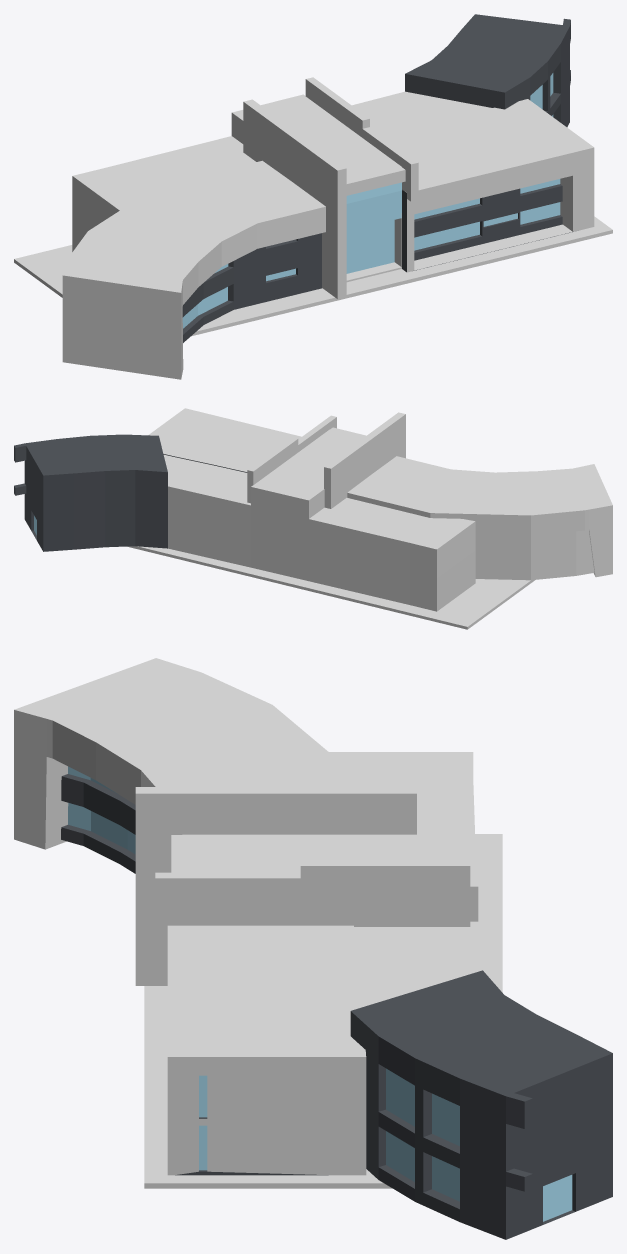
File: CHA.fbx
The picture shows the model from 3 angles, top to bottom: view 1: azimuth 30°, elevation 25°; view 2: azimuth 150°, elevation 25°; view 3: azimuth 270°, elevation 25°; orthographic projection. The views are drawn at different scales.
Visible parts, largest first — view 1: CHA.003, CHA, CHA.001, CHA.002, Plane.013, Plane.015, Plane.014; view 2: CHA, CHA.002, CHA.003, Plane.015, CHA.001, Plane.013, Plane.014; view 3: CHA.002, CHA.001, CHA.003, CHA, Plane.014, Plane.013, Plane.015.
Boxes of the visible parts, box(x1,y1,x2,y2) form: CHA.003: box(62, 160, 325, 379); CHA: box(72, 91, 491, 342); CHA.001: box(384, 99, 594, 272); CHA.002: box(405, 14, 570, 127); Plane.013: box(243, 99, 346, 299); Plane.015: box(14, 216, 612, 336); Plane.014: box(305, 77, 418, 201); CHA: box(163, 427, 594, 611); CHA.002: box(14, 434, 167, 551); CHA.003: box(347, 456, 612, 577); Plane.015: box(127, 546, 534, 629); CHA.001: box(148, 408, 301, 472); Plane.013: box(324, 412, 405, 508); Plane.014: box(247, 415, 336, 503); CHA.002: box(350, 970, 612, 1239); CHA.001: box(167, 925, 366, 1175); CHA.003: box(14, 658, 357, 849); CHA: box(61, 752, 481, 1007); Plane.014: box(155, 860, 470, 933); Plane.013: box(135, 787, 416, 985); Plane.015: box(144, 834, 502, 1188).
Size of the model in its own units: 372 by 74.86 by 205.
